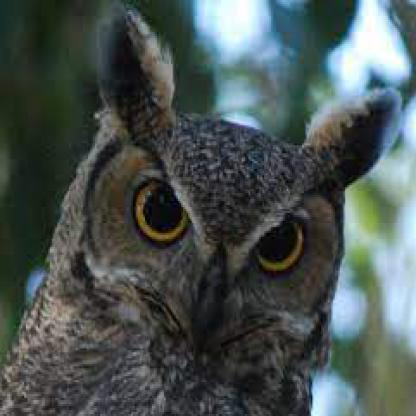owl: (45, 16, 414, 414)
